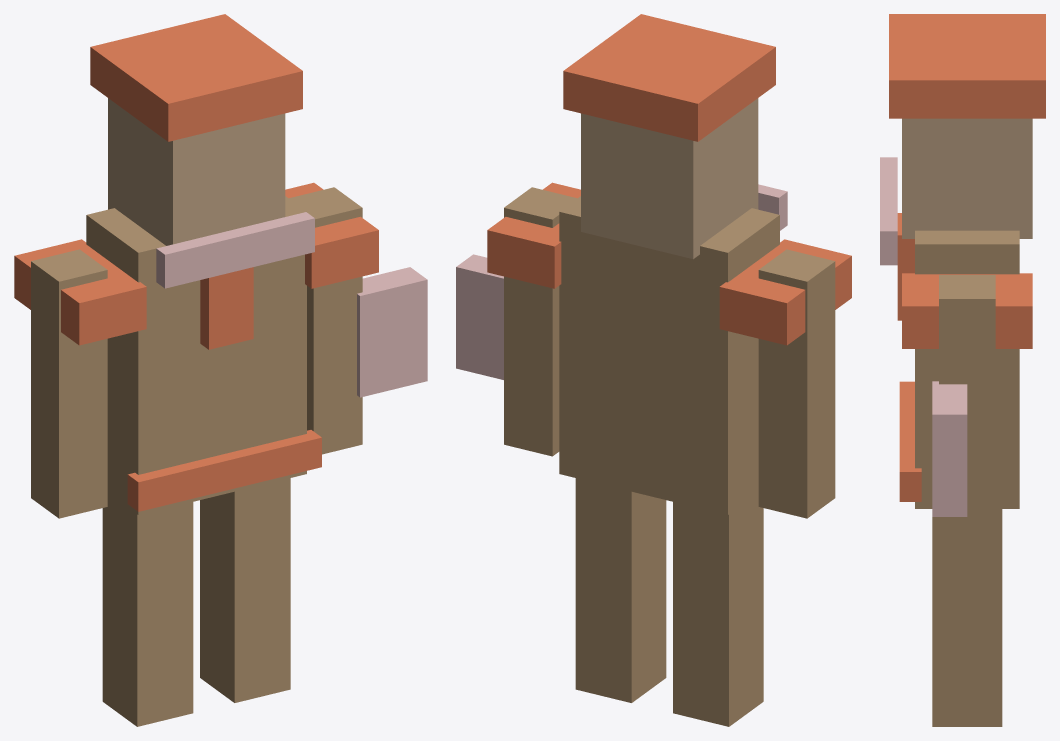
The model's file is 05_cassian_echohand_watcher_near_echo.glb.
3 views of the same model, side by side, from view 1: azimuth 30°, elevation 25°; view 2: azimuth 150°, elevation 25°; view 3: azimuth 270°, elevation 25° (orthographic).
Visible parts, largest first — view 1: Cassian Echohand, Watcher near Echo; view 2: Cassian Echohand, Watcher near Echo; view 3: Cassian Echohand, Watcher near Echo.
Boxes of the visible parts, box(x1,y1,x2,y2) form: Cassian Echohand, Watcher near Echo: box(14, 14, 427, 726); Cassian Echohand, Watcher near Echo: box(456, 14, 851, 726); Cassian Echohand, Watcher near Echo: box(880, 14, 1045, 726).
Bounding box in the file's own units: 0.9553 × 1.59 × 0.3723.
